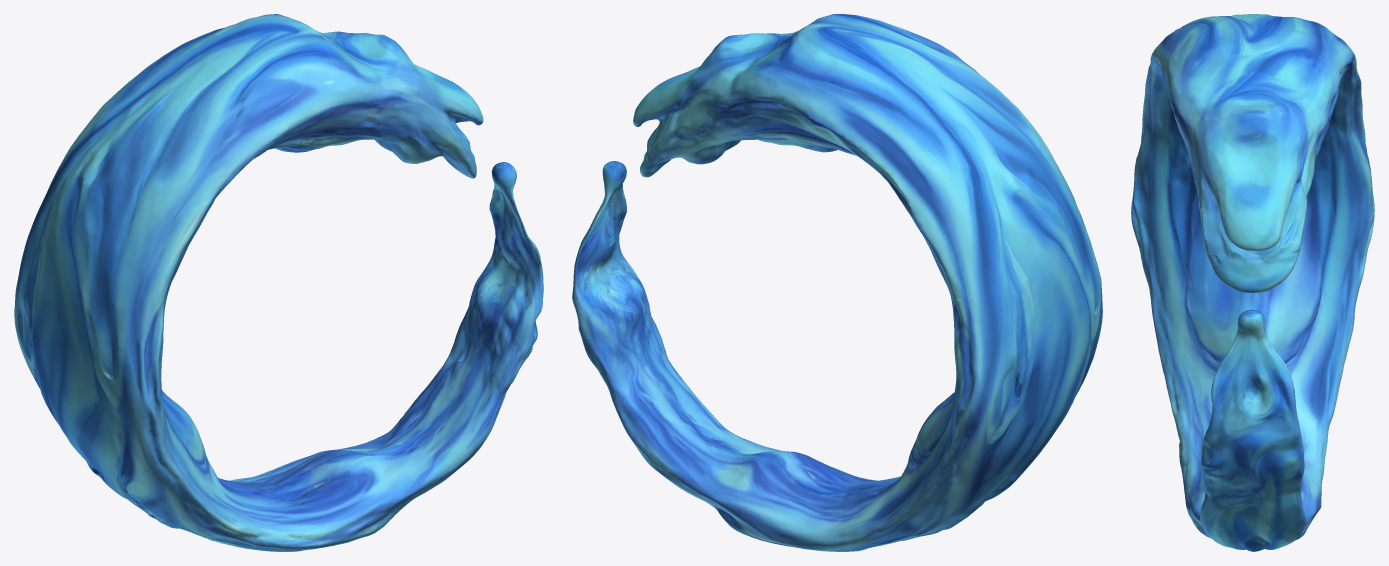
Rendered from Fluid Harmony 0602193530 texture.glb.
The picture shows the model from 3 angles, left to right: view 1: azimuth 30°, elevation 25°; view 2: azimuth 150°, elevation 25°; view 3: azimuth 270°, elevation 25°; orthographic projection. The views are drawn at different scales.
Size of the model in its own units: 1.97 by 2 by 0.9308.
1 material, 1 textured.
